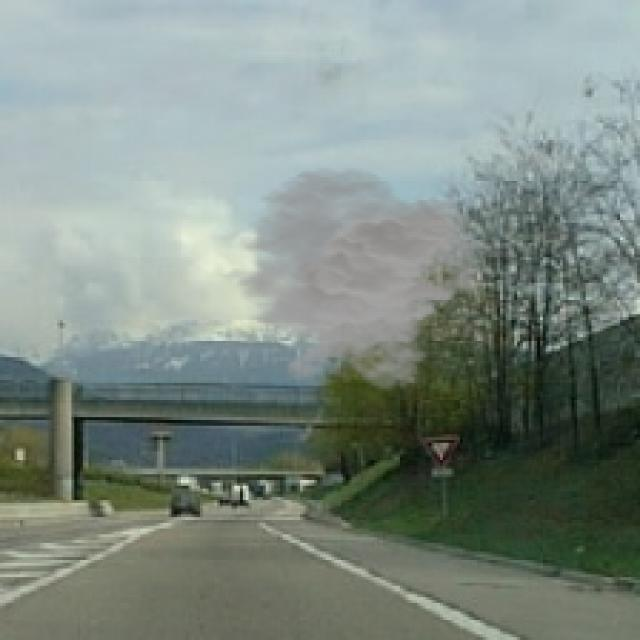smoke: (212, 166, 494, 391)
